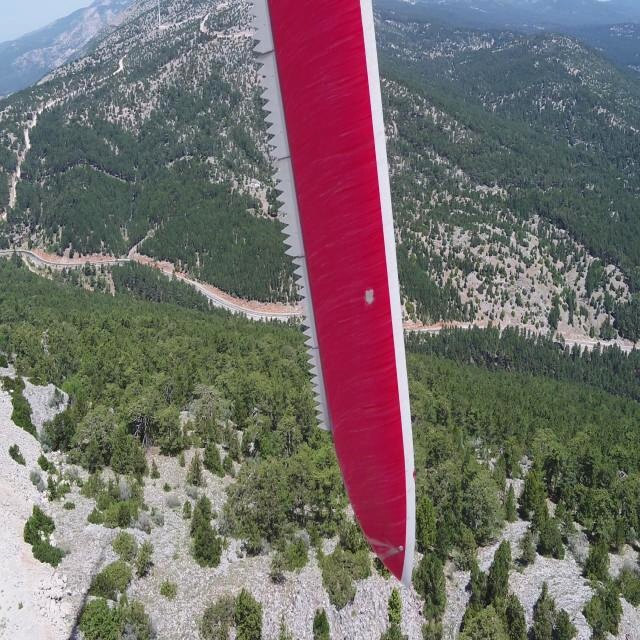Coating_defects: (363, 285, 385, 309), (391, 542, 411, 556)
